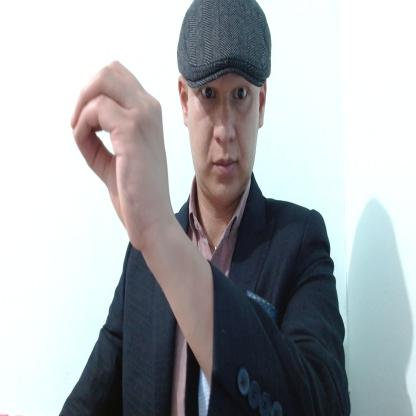O: (70, 60, 170, 249)
